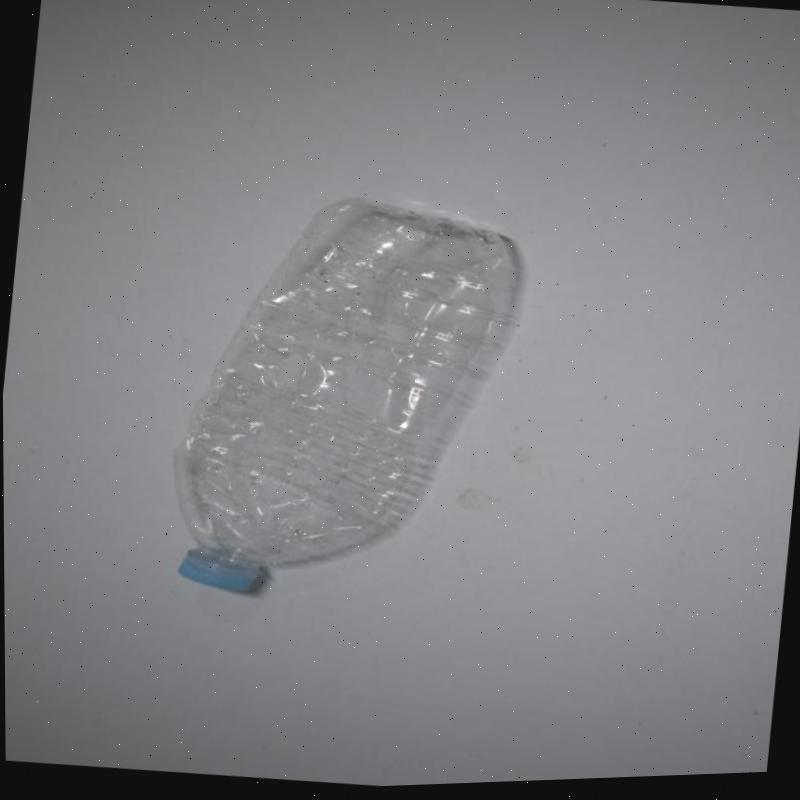botella: (154, 178, 538, 628)
